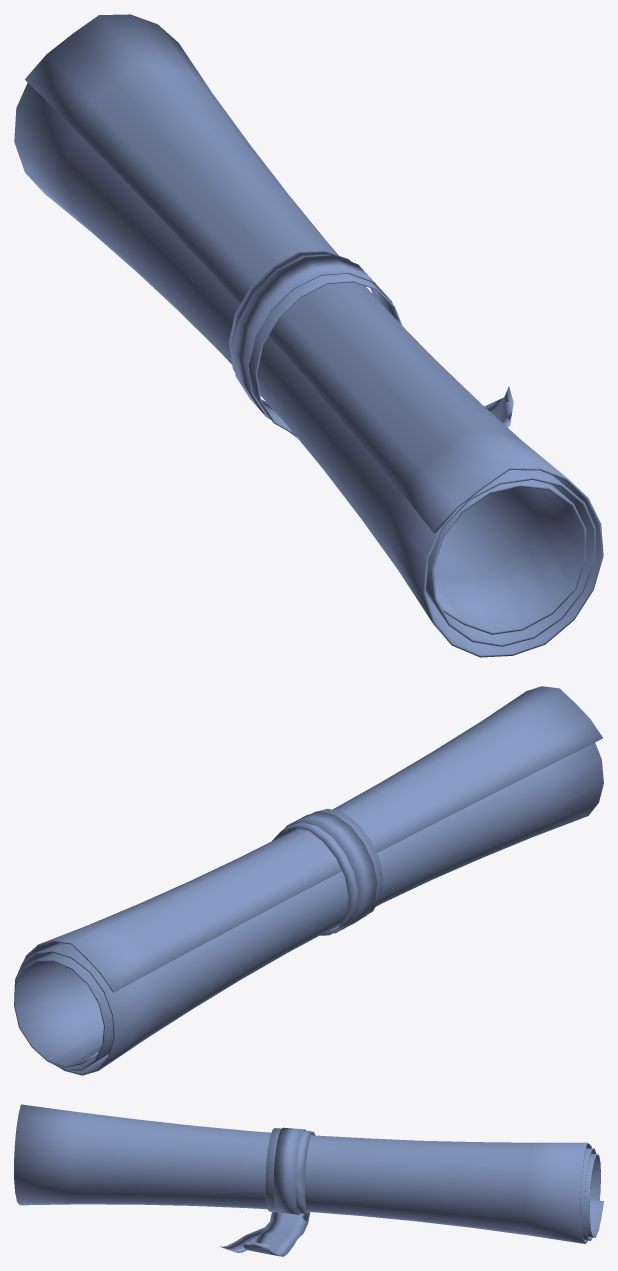
Rendered from Academic.002.fbx.
The picture shows the model from 3 angles, top to bottom: view 1: azimuth 30°, elevation 25°; view 2: azimuth 150°, elevation 25°; view 3: azimuth 270°, elevation 25°; orthographic projection. The views are drawn at different scales.
Visible parts, largest first — view 1: Academic.002; view 2: Academic.002; view 3: Academic.002.
Part boxes in pixels (x1,y1,x2,y2): Academic.002: (14, 14, 603, 657); Academic.002: (14, 686, 603, 1075); Academic.002: (14, 1104, 603, 1256).
Size of the model in its own units: 2571 by 1490 by 8117.
